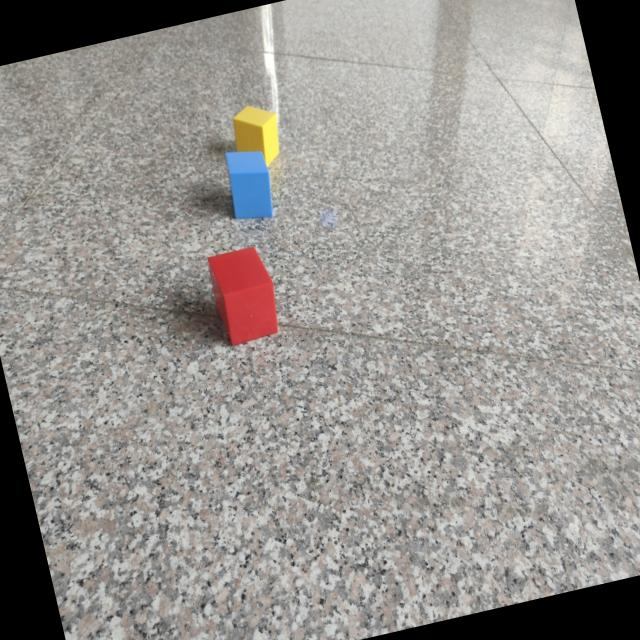blue: (225, 150, 273, 220)
red: (207, 246, 279, 347)
yellow: (234, 97, 285, 170)
